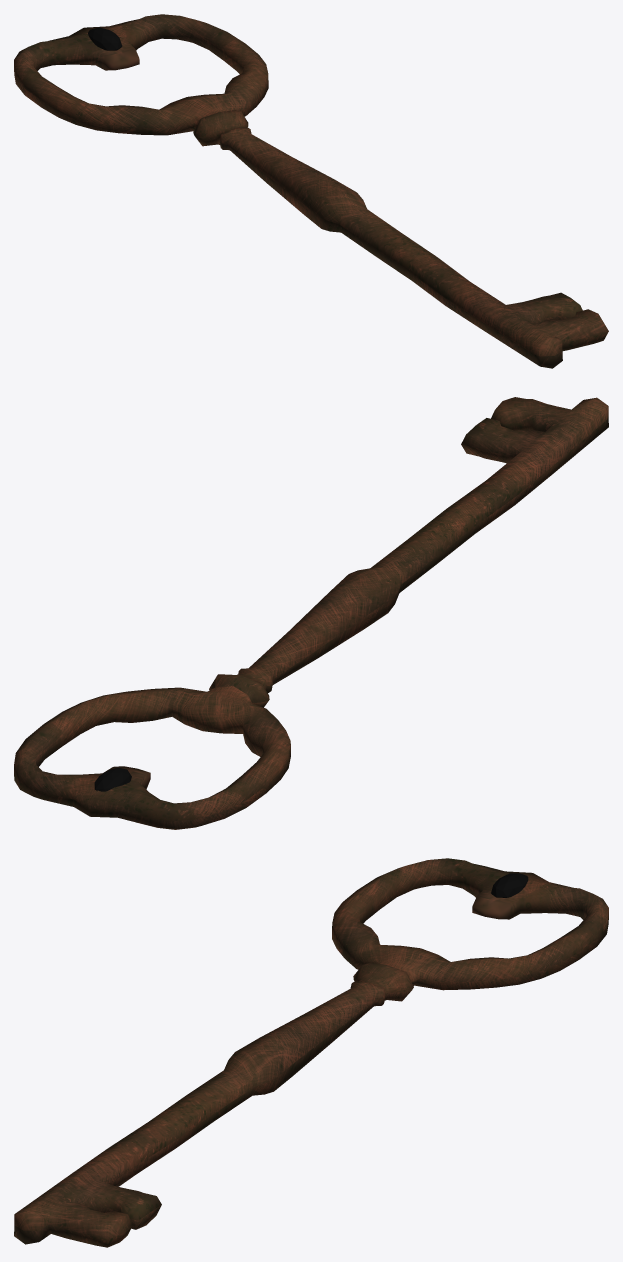
The model's file is KEY.fbx.
3 views of the same model, one above another, from view 1: azimuth 30°, elevation 25°; view 2: azimuth 150°, elevation 25°; view 3: azimuth 330°, elevation 25° (orthographic). The views are drawn at different scales.
Visible parts, largest first — view 1: Key; view 2: Key; view 3: Key.
Part boxes in pixels (x1=…): Key: x1=14, y1=14, x2=608, y2=368; Key: x1=14, y1=397, x2=608, y2=829; Key: x1=14, y1=858, x2=608, y2=1247.
Bounding box in the file's own units: 15.26 × 3.39 × 60.74.
